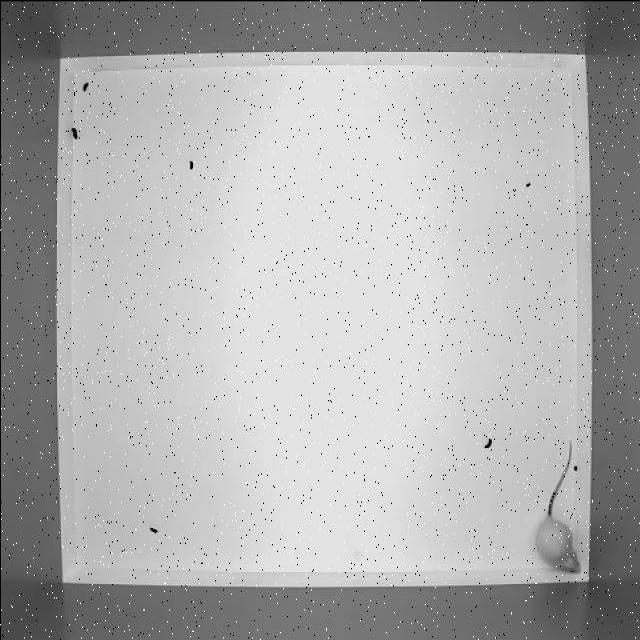rat: (532, 439, 586, 577)
